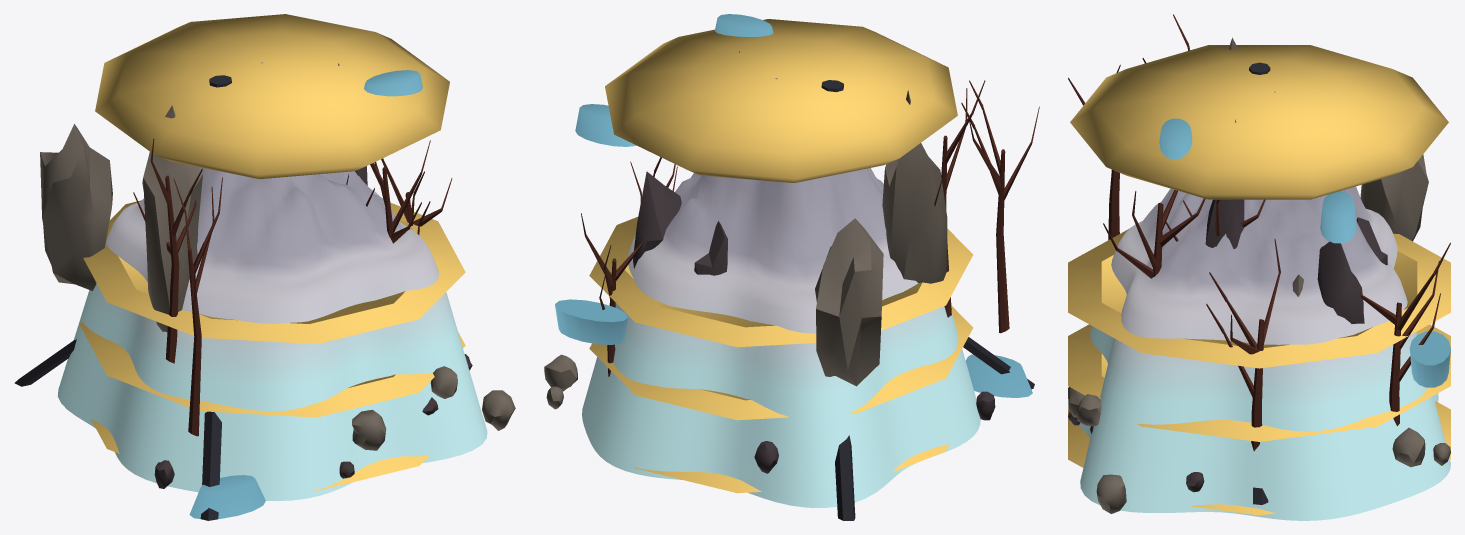
File: ile-tonnerre.glb
3 views of the same model, side by side, from view 1: azimuth 30°, elevation 25°; view 2: azimuth 150°, elevation 25°; view 3: azimuth 270°, elevation 25° (orthographic).
Parts seen in each view (by area): view 1: tonnerre_decor, tonnerre_terrain; view 2: tonnerre_decor, tonnerre_terrain; view 3: tonnerre_decor, tonnerre_terrain.
Boxes of the visible parts, box(x1,y1,x2,y2) form: tonnerre_decor: box(14, 14, 515, 520); tonnerre_terrain: box(57, 62, 487, 500); tonnerre_decor: box(544, 14, 1039, 520); tonnerre_terrain: box(582, 78, 980, 507); tonnerre_decor: box(1068, 14, 1450, 515); tonnerre_terrain: box(1078, 91, 1450, 520).
Bounding box in the file's own units: 2 × 2 × 2.
